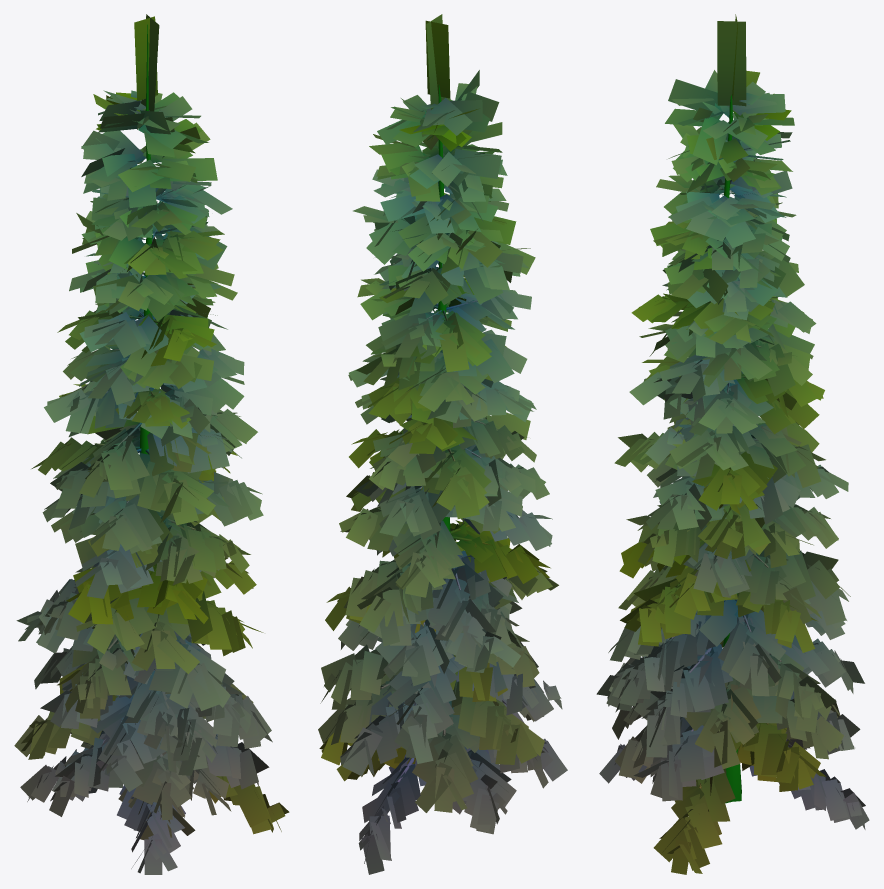
Rendered from spruce_c.glb.
3 renders of one model, left to right at view 1: azimuth 30°, elevation 25°; view 2: azimuth 150°, elevation 25°; view 3: azimuth 270°, elevation 25°, orthographic. The views are drawn at different scales.
Visible parts, largest first — view 1: LOD0; view 2: LOD0; view 3: LOD0.
Part boxes in pixels (x1,y1,x2,y2): LOD0: [14, 14, 289, 874]; LOD0: [318, 14, 567, 874]; LOD0: [596, 14, 869, 874].
Size of what is drawn, in the model's own units: 4.22 by 14.01 by 4.29.
